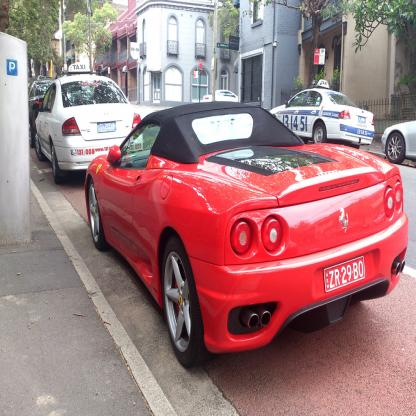Car: (85, 102, 410, 371), (34, 63, 145, 184), (271, 79, 376, 151), (29, 78, 55, 149), (382, 121, 416, 165), (204, 91, 240, 103)
